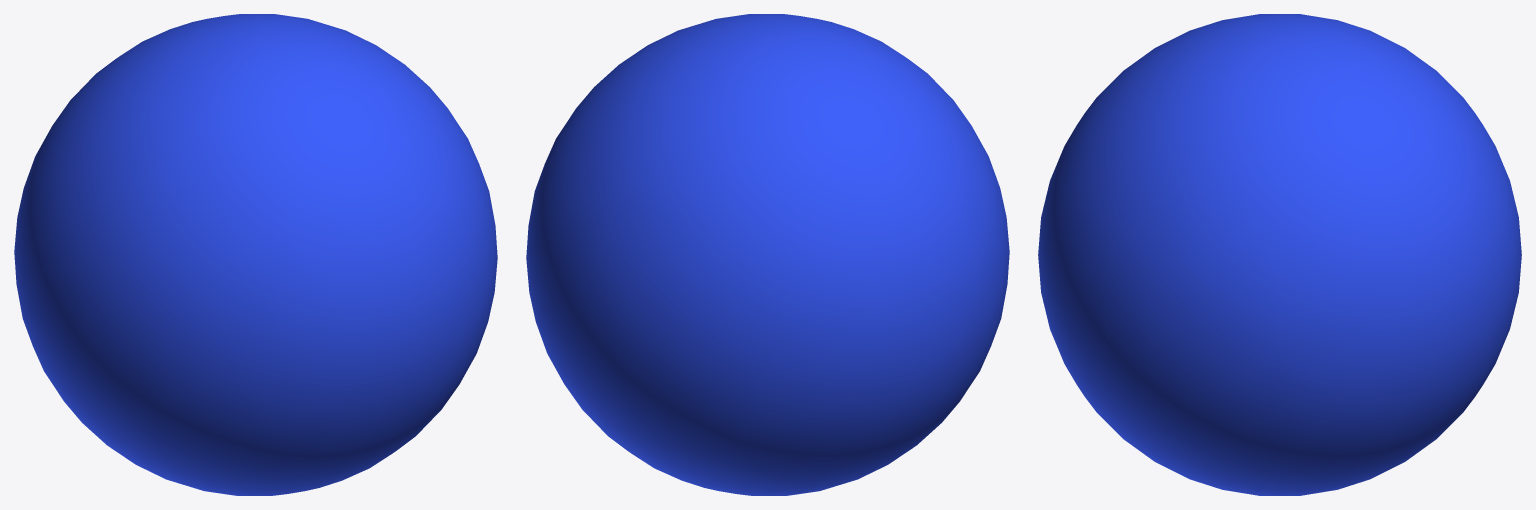
File: s_blue.glb
3 views of the same model, side by side, from view 1: azimuth 30°, elevation 25°; view 2: azimuth 150°, elevation 25°; view 3: azimuth 270°, elevation 25° (orthographic).
Visible parts, largest first — view 1: sphere; view 2: sphere; view 3: sphere.
Boxes of the visible parts, left/top/right/bottom form: sphere: left=14, top=14, right=497, bottom=495; sphere: left=526, top=14, right=1009, bottom=495; sphere: left=1038, top=14, right=1521, bottom=495.
Bounding box in the file's own units: 0.6 × 0.6 × 0.6.
